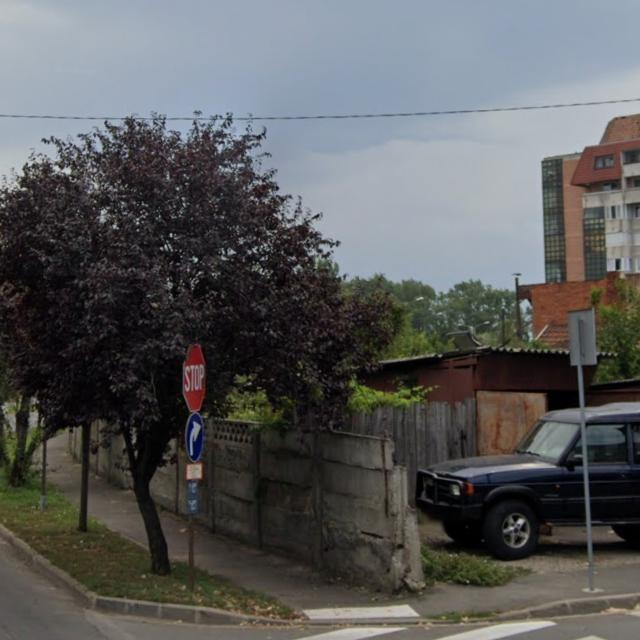prio_stop: (182, 345, 207, 412)
